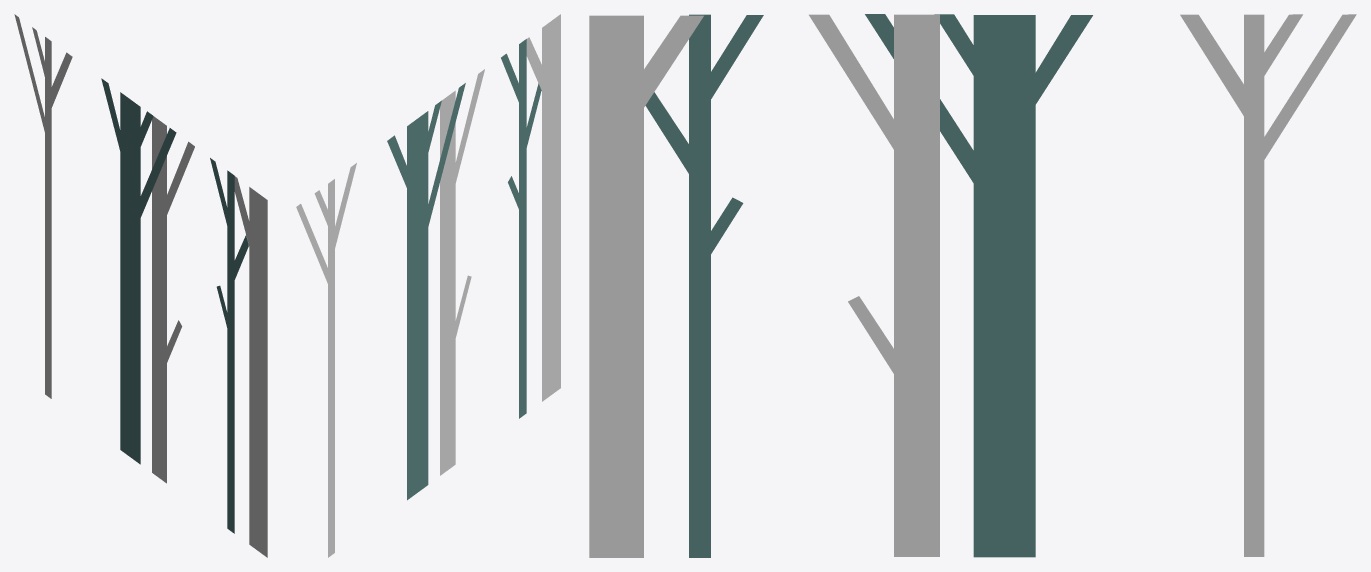
File: Furn3_texturewall_color1_joined.fbx
3 views of the same model, side by side, from view 1: azimuth 30°, elevation 25°; view 2: azimuth 150°, elevation 25°; view 3: azimuth 270°, elevation 25° (orthographic). The views are drawn at different scales.
Parts seen in each view (by area): view 1: Цилиндр.001; view 2: Цилиндр.001; view 3: Цилиндр.001.
Boxes of the visible parts, x1,y1,x2,y2 form: Цилиндр.001: [14, 14, 267, 557]; Цилиндр.001: [296, 14, 560, 557]; Цилиндр.001: [589, 14, 1356, 557].
Bounding box in the file's own units: 0.2231 × 627 × 802.
